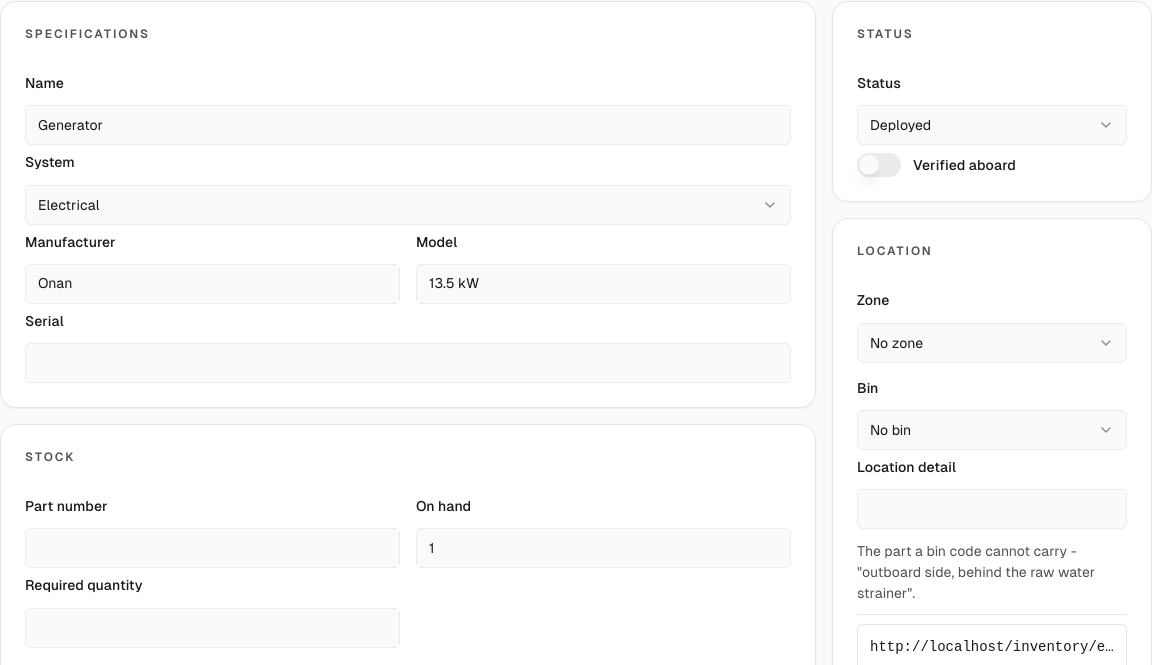
EquipmentEditor › takes over the app header with the save bar while dirty, and leaves the page body alone
expect the field labelled "Name" holds "Generator": met, box x1=25 y1=105 x2=791 y2=145
expect the button "Save" is not shown: met
Replace the text in the field labelled "Manufacturer" with "Kohler" at (212, 284), box x1=25 y1=264 x2=400 y2=304
(page scrolled)
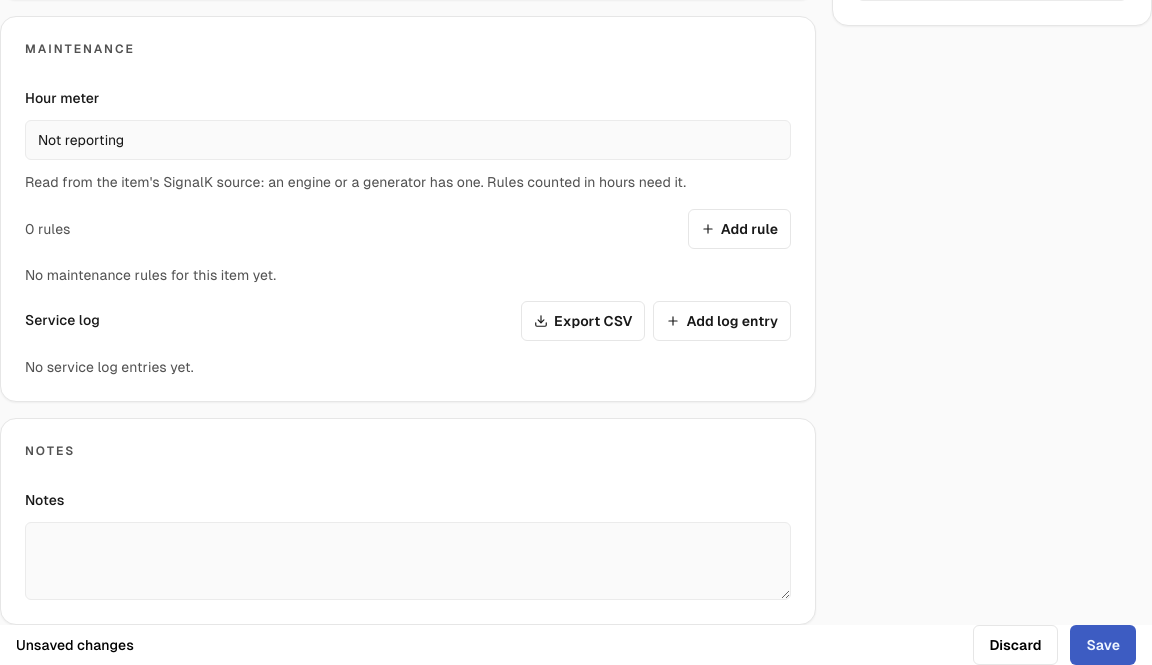
expect the button "Save" is shown: met, box x1=1070 y1=625 x2=1136 y2=664
expect the text "Unsaved changes" is shown: met, box x1=16 y1=637 x2=134 y2=653
